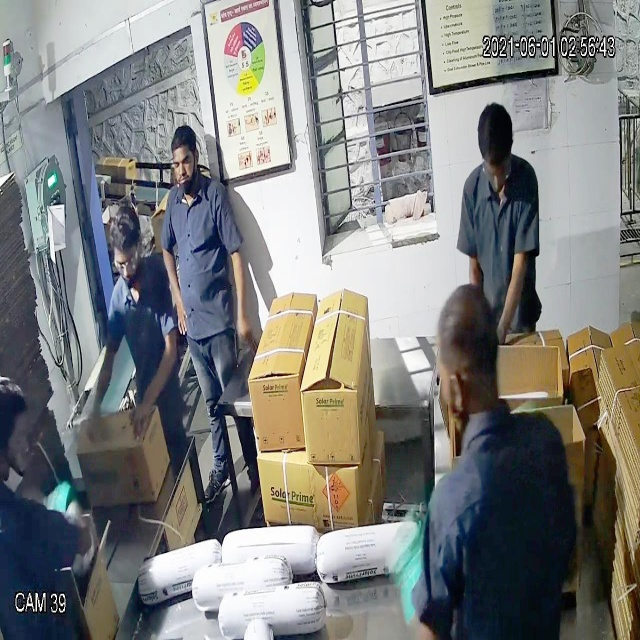Gafas: (105, 243, 149, 277)
